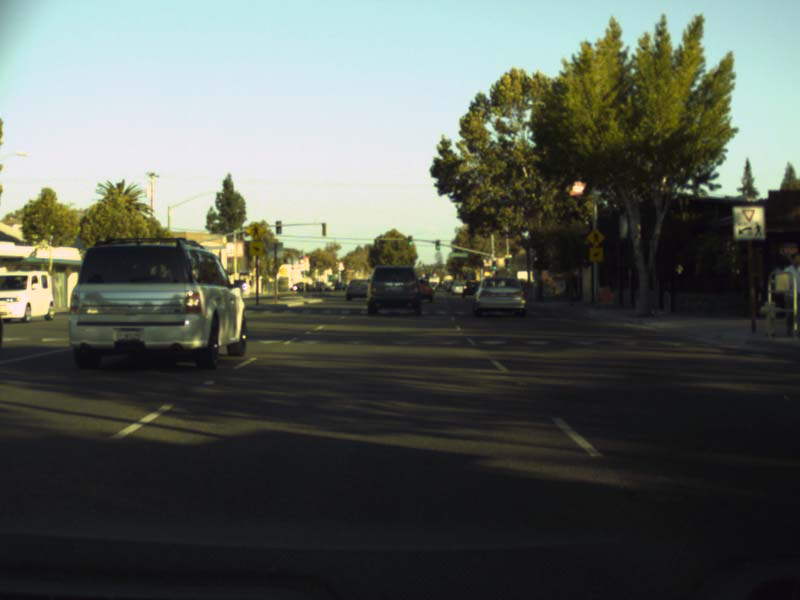Green: (505, 258, 510, 266), (491, 261, 495, 269), (408, 236, 411, 246), (436, 240, 439, 249)
